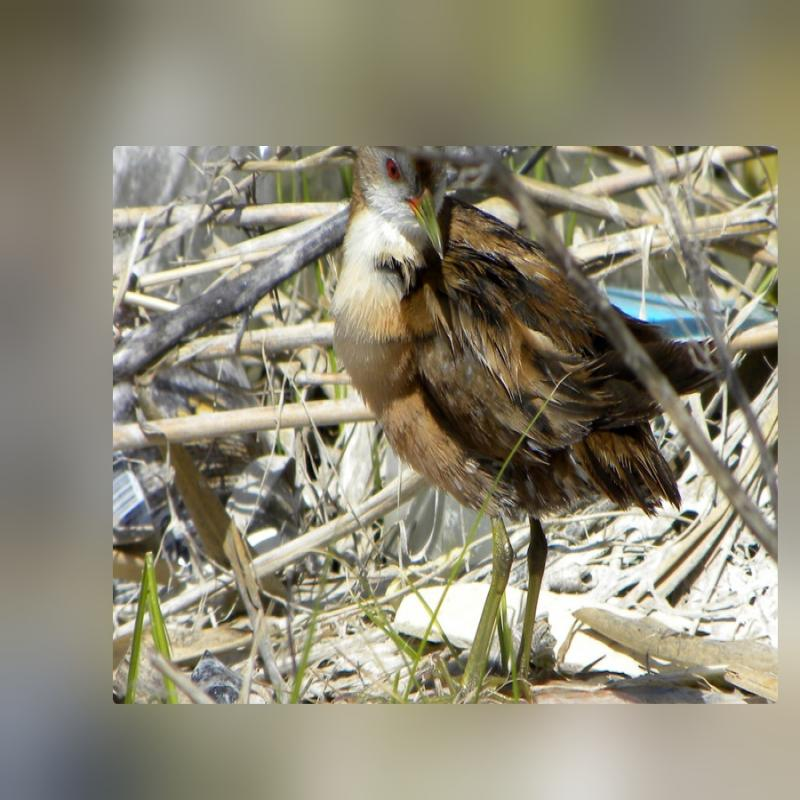little crake: (310, 153, 689, 710)
